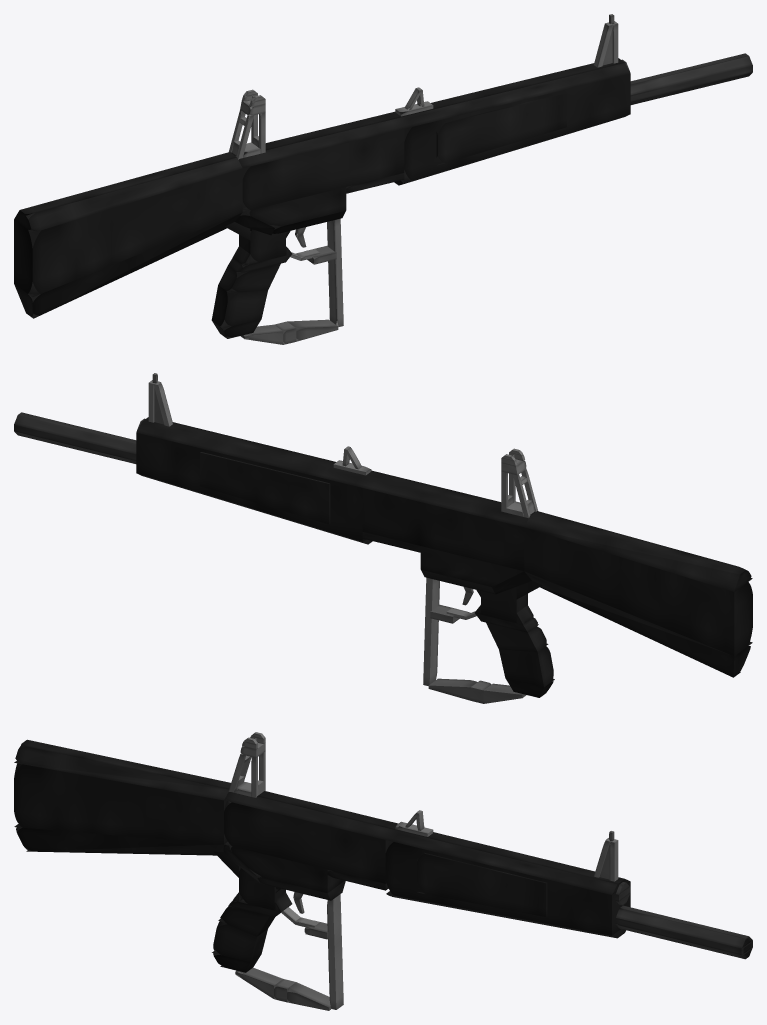
The picture shows the model from 3 angles, top to bottom: view 1: azimuth 30°, elevation 25°; view 2: azimuth 150°, elevation 25°; view 3: azimuth 330°, elevation 25°; orthographic projection.
Parts seen in each view (by area): view 1: gunModel5, gunModel0, gunModel1, gunModel2, gunModel3, gunModel11, gunModel8, gunModel6, gunModel30, gunModel19, gunModel21, gunModel18 (+4 smaller); view 2: gunModel5, gunModel0, gunModel1, gunModel2, gunModel3, gunModel11, gunModel8, gunModel6, gunModel30, gunModel19, gunModel21, gunModel18 (+4 smaller); view 3: gunModel5, gunModel1, gunModel0, gunModel2, gunModel11, gunModel3, gunModel8, gunModel6, gunModel30, gunModel21, gunModel19, gunModel12 (+8 smaller).
Boxes of the visible parts, left/top/right/bottom form: gunModel5: left=14, top=168, right=242, bottom=297; gunModel0: left=242, top=129, right=404, bottom=211; gunModel1: left=231, top=58, right=630, bottom=167; gunModel2: left=401, top=73, right=630, bottom=182; gunModel3: left=14, top=152, right=242, bottom=232; gunModel11: left=436, top=93, right=566, bottom=165; gunModel8: left=14, top=212, right=242, bottom=318; gunModel6: left=242, top=187, right=346, bottom=227; gunModel30: left=630, top=53, right=752, bottom=95; gunModel19: left=211, top=285, right=267, bottom=328; gunModel21: left=327, top=218, right=343, bottom=326; gunModel18: left=218, top=263, right=280, bottom=292; gunModel5: left=524, top=527, right=752, bottom=656; gunModel0: left=362, top=488, right=524, bottom=570; gunModel1: left=136, top=417, right=535, bottom=526; gunModel2: left=136, top=432, right=365, bottom=541; gunModel3: left=524, top=511, right=752, bottom=591; gunModel11: left=200, top=452, right=330, bottom=524; gunModel8: left=524, top=571, right=750, bottom=677; gunModel6: left=420, top=546, right=523, bottom=586; gunModel30: left=14, top=412, right=136, bottom=454; gunModel19: left=499, top=646, right=554, bottom=687; gunModel21: left=423, top=577, right=439, bottom=685; gunModel18: left=486, top=622, right=548, bottom=651; gunModel5: left=14, top=763, right=227, bottom=844; gunModel1: left=224, top=789, right=630, bottom=894; gunModel0: left=224, top=801, right=392, bottom=883; gunModel2: left=385, top=842, right=630, bottom=935; gunModel11: left=417, top=852, right=547, bottom=917; gunModel3: left=14, top=739, right=230, bottom=800; gunModel8: left=16, top=824, right=224, bottom=855; gunModel6: left=229, top=844, right=344, bottom=893; gunModel30: left=616, top=905, right=752, bottom=948; gunModel21: left=327, top=894, right=343, bottom=1009; gunModel19: left=212, top=918, right=267, bottom=962; gunModel12: left=239, top=868, right=285, bottom=910.
Size of the model in its own units: 22.4 by 7.5 by 1.1.
